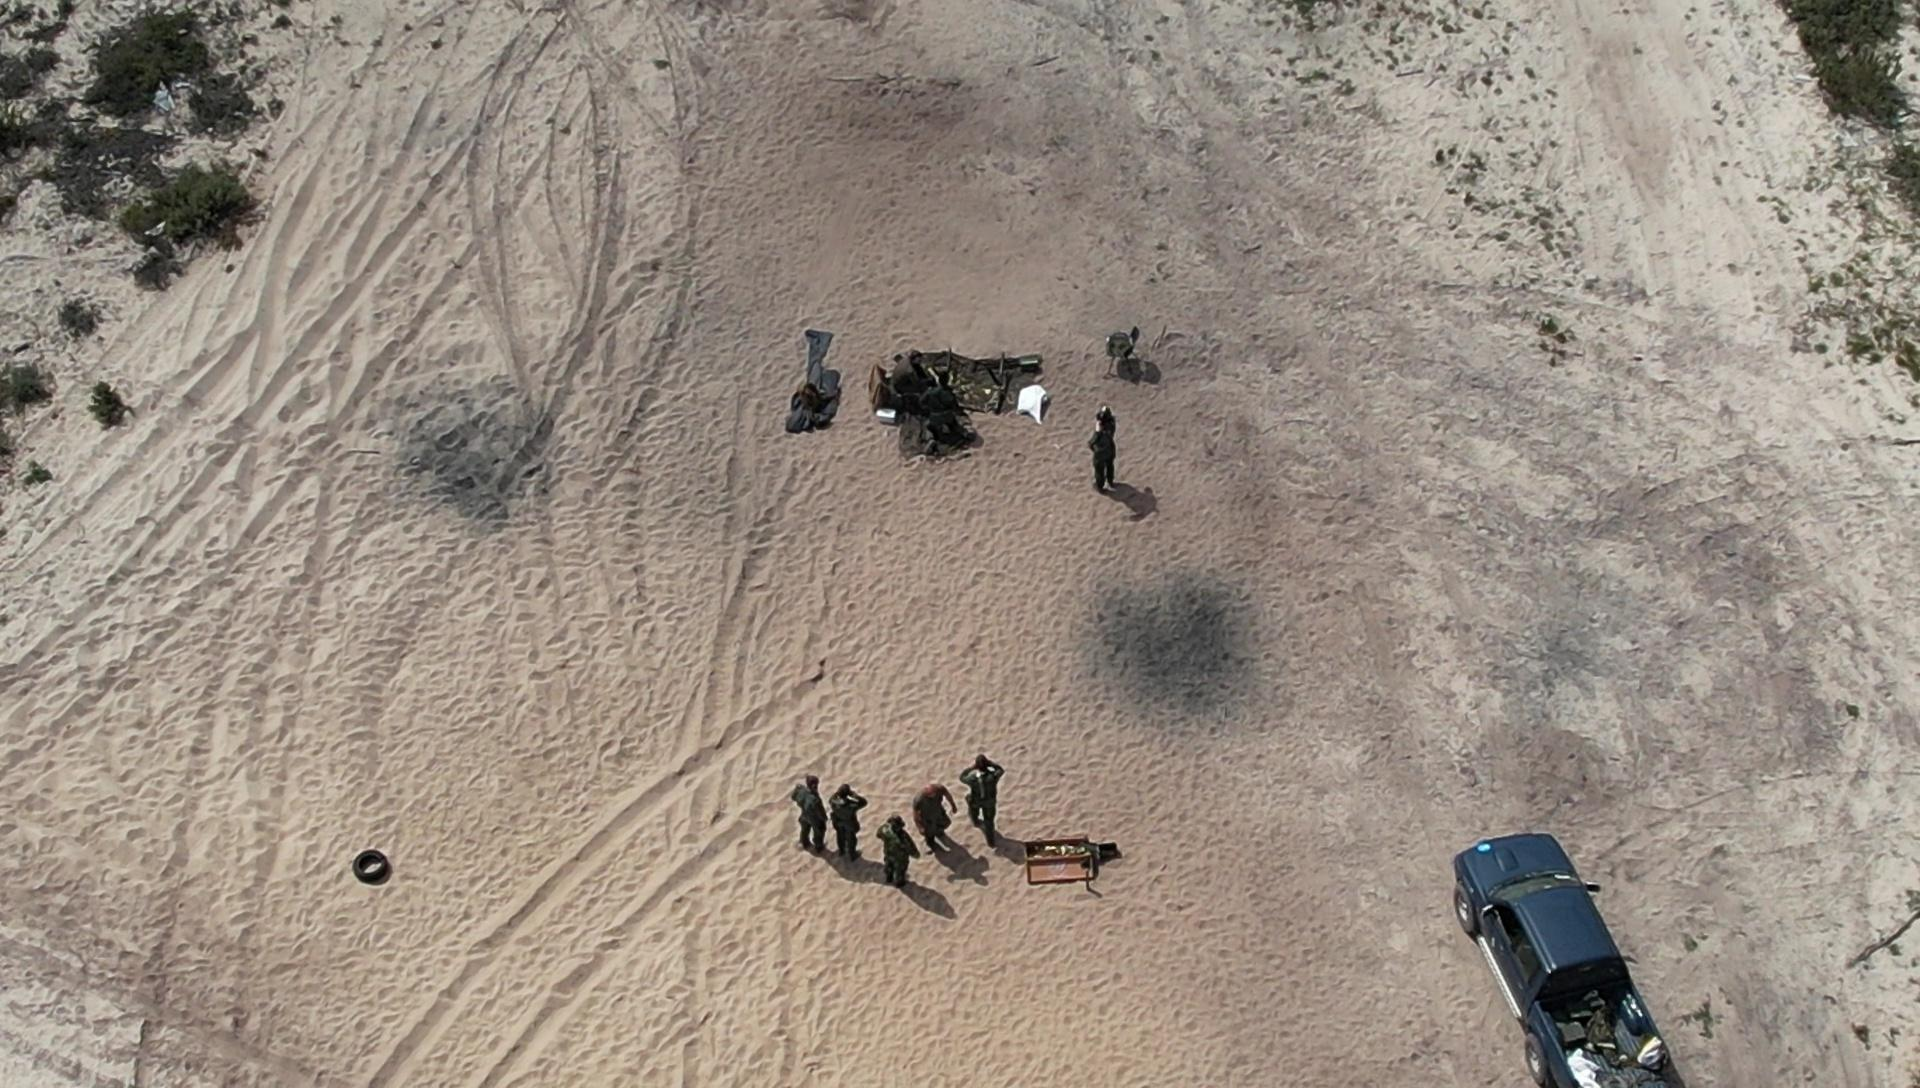Soldier: (952, 746, 1021, 855), (1075, 405, 1138, 506), (802, 774, 862, 877), (913, 367, 971, 464), (822, 787, 872, 884), (906, 768, 963, 841), (877, 812, 920, 899), (891, 344, 932, 408)
